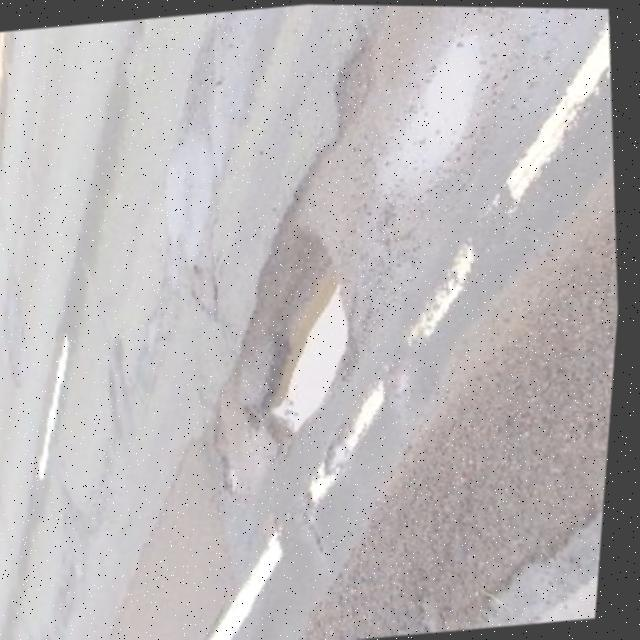pothole: (224, 207, 385, 445)
